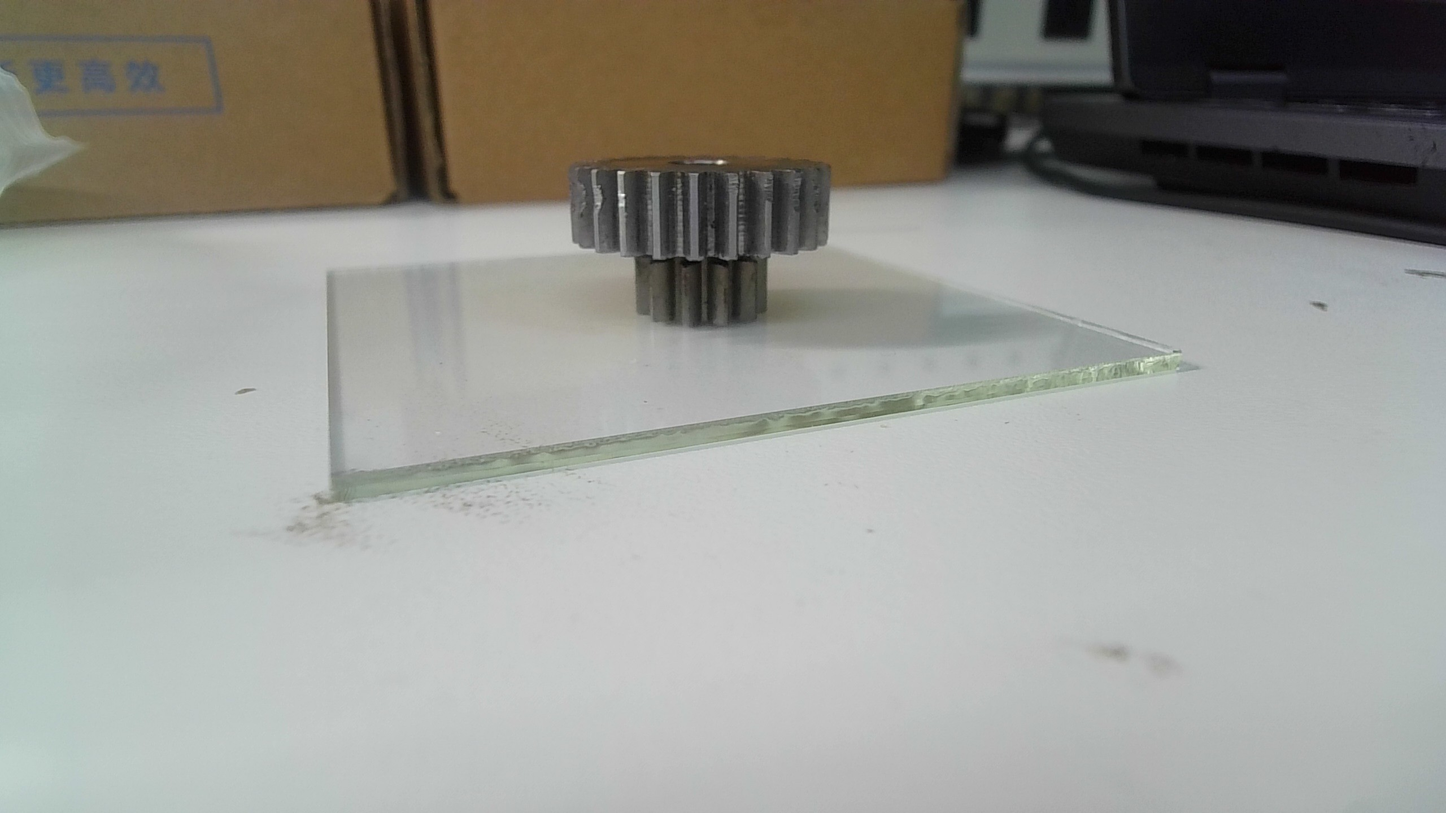gear: (566, 153, 831, 329)
